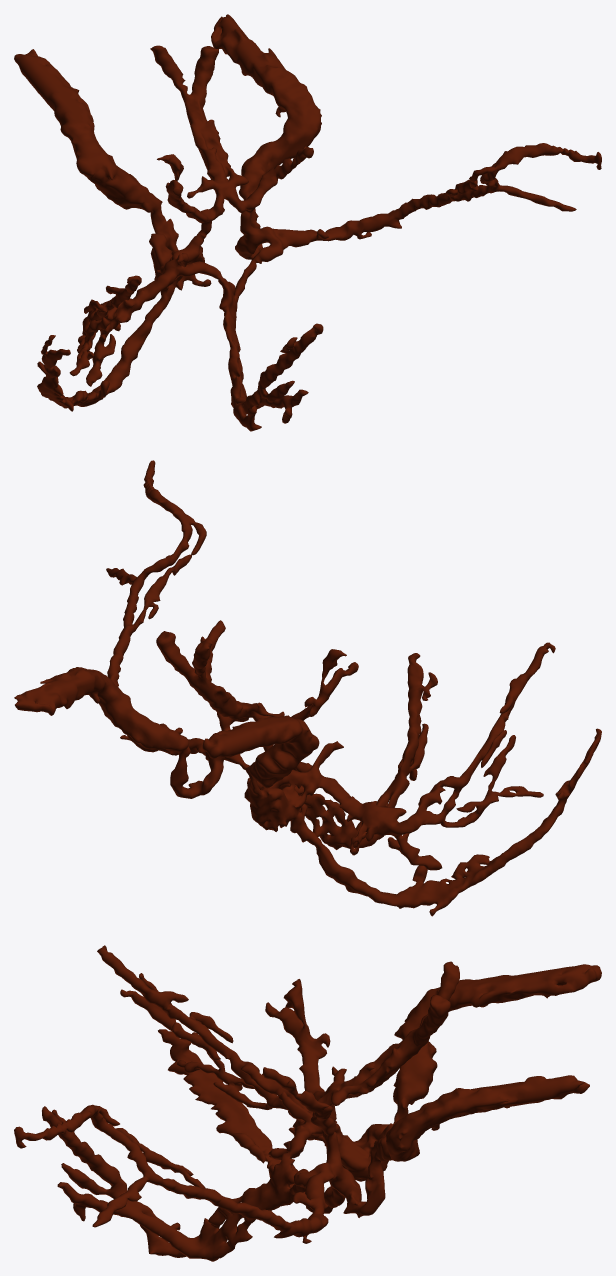
The model's file is Arteries.obj.
3 views of the same model, one above another, from view 1: azimuth 30°, elevation 25°; view 2: azimuth 150°, elevation 25°; view 3: azimuth 270°, elevation 25° (orthographic). The views are drawn at different scales.
Parts seen in each view (by area): view 1: grp1; view 2: grp1; view 3: grp1.
Part boxes in pixels (x1,y1,x2,y2): grp1: [14, 14, 601, 431]; grp1: [14, 460, 601, 916]; grp1: [14, 945, 601, 1261].
Bounding box in the file's own units: 133 × 70.53 × 119.
